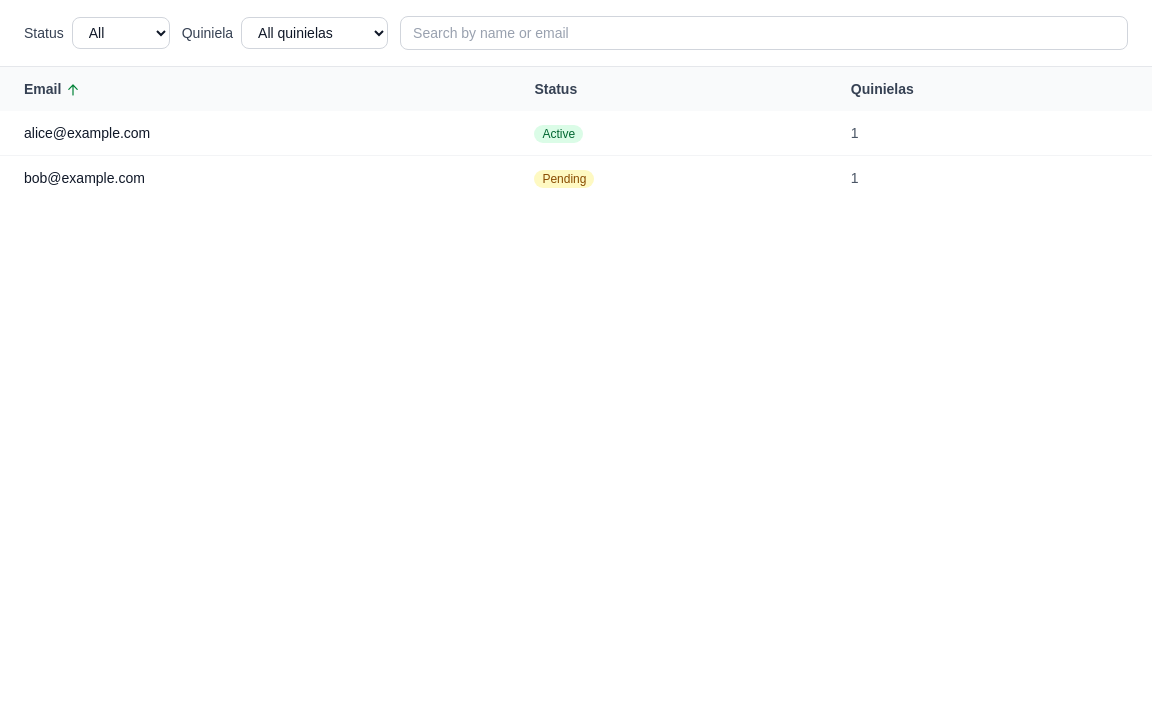
UsersClient › opens UserDetailPanel when a user row is clicked
Click the text "alice@example.com" at [87, 133], box x1=0 y1=111 x2=510 y2=156
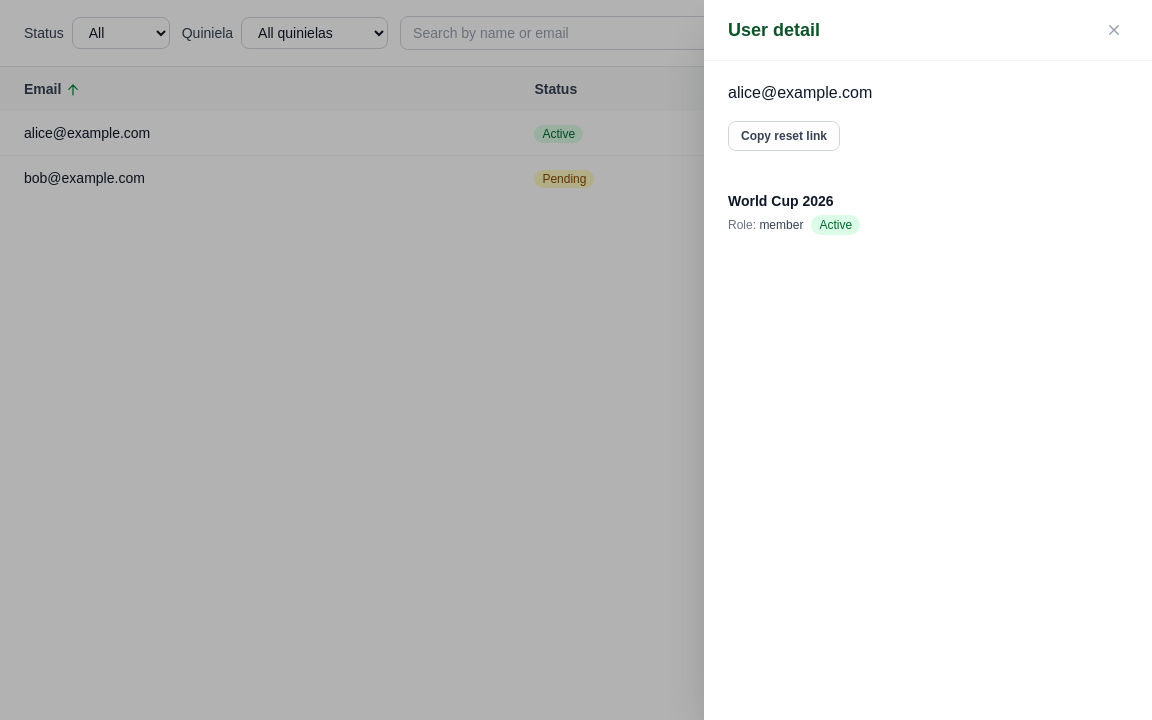
Now the heading "User detail" is shown, box x1=728 y1=16 x2=820 y2=44
